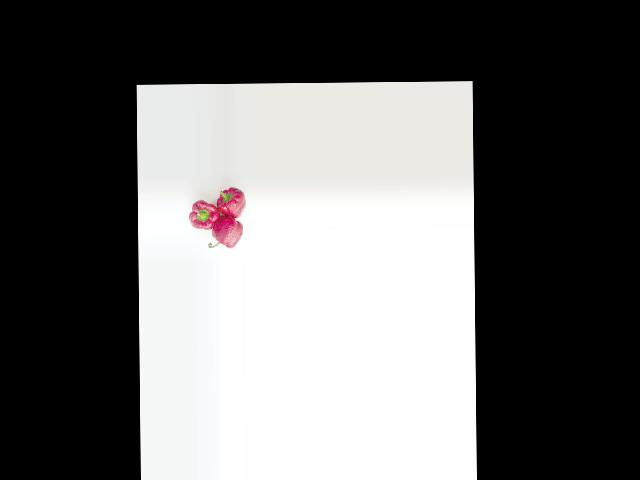bell_pepper: (206, 218, 244, 255)
